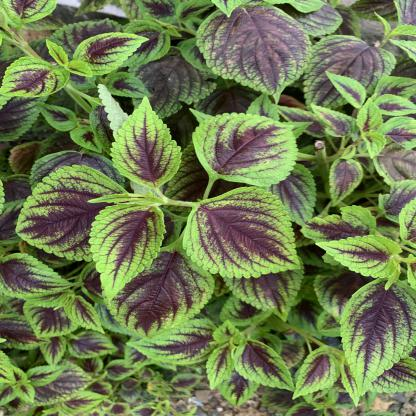Bunga Coleus: (19, 23, 412, 397)
